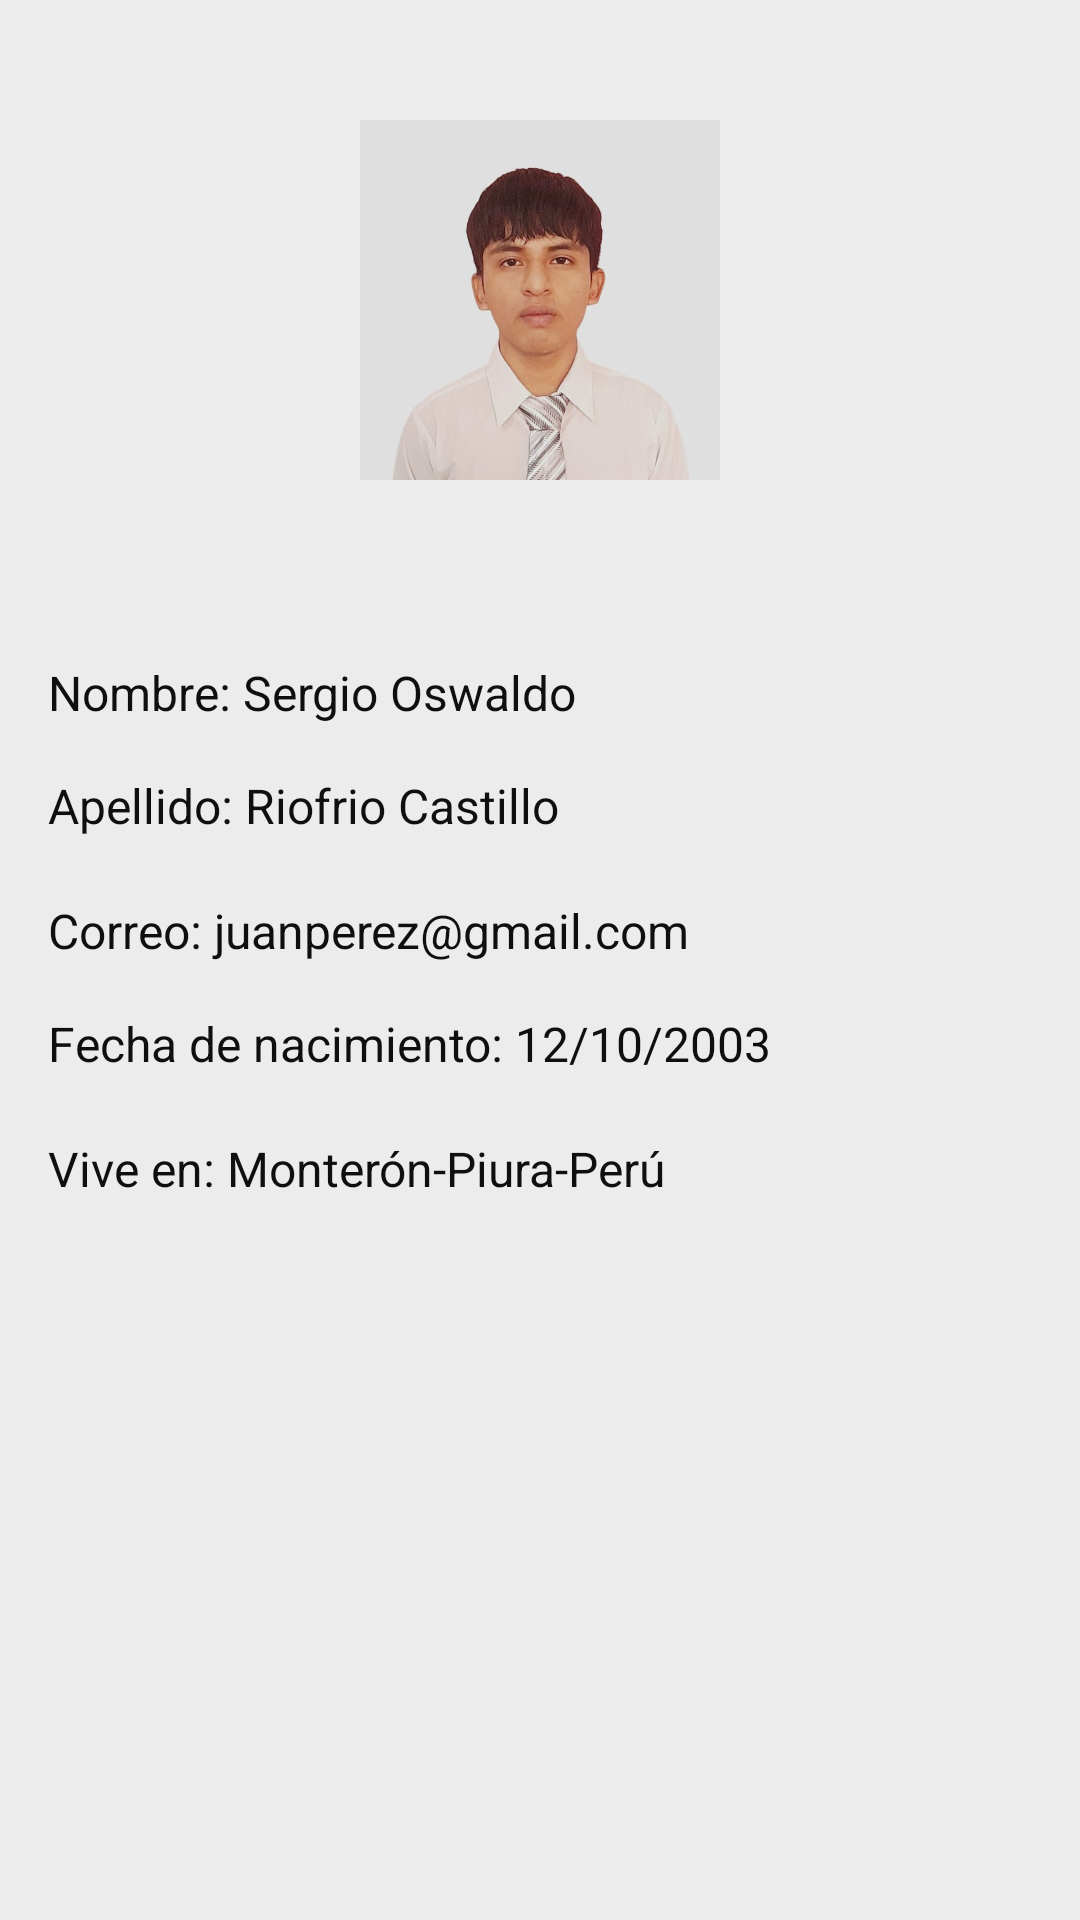

Where to tap for icons on this 1080×1920 app screen, as (x=x, y=y):
perfil: (x=541, y=323)
